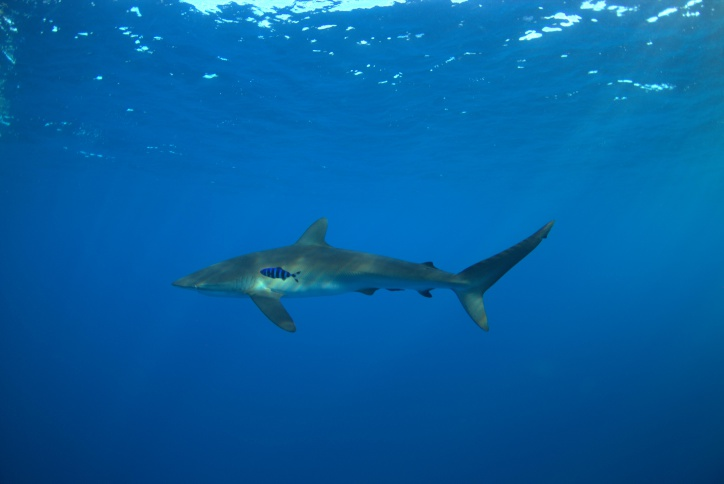Sedoso: (155, 207, 567, 341)
